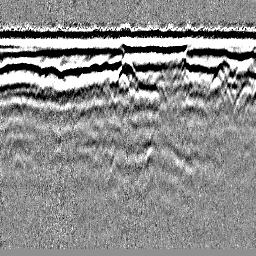cavity: (114, 53, 138, 87)
